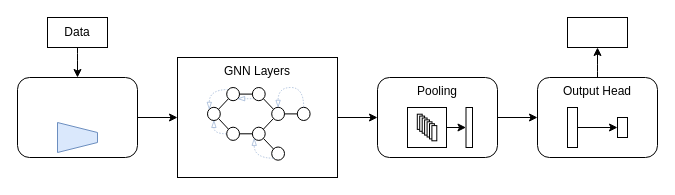
This 675x195 diagram has some shape labels left out. The shapes that lost their labels are listed below. From the top down, each one's box as (x1, y1, x2, y2) in pixels, then its label:
(566, 16, 628, 48): Output
(16, 76, 138, 158): Input Head (Features)
